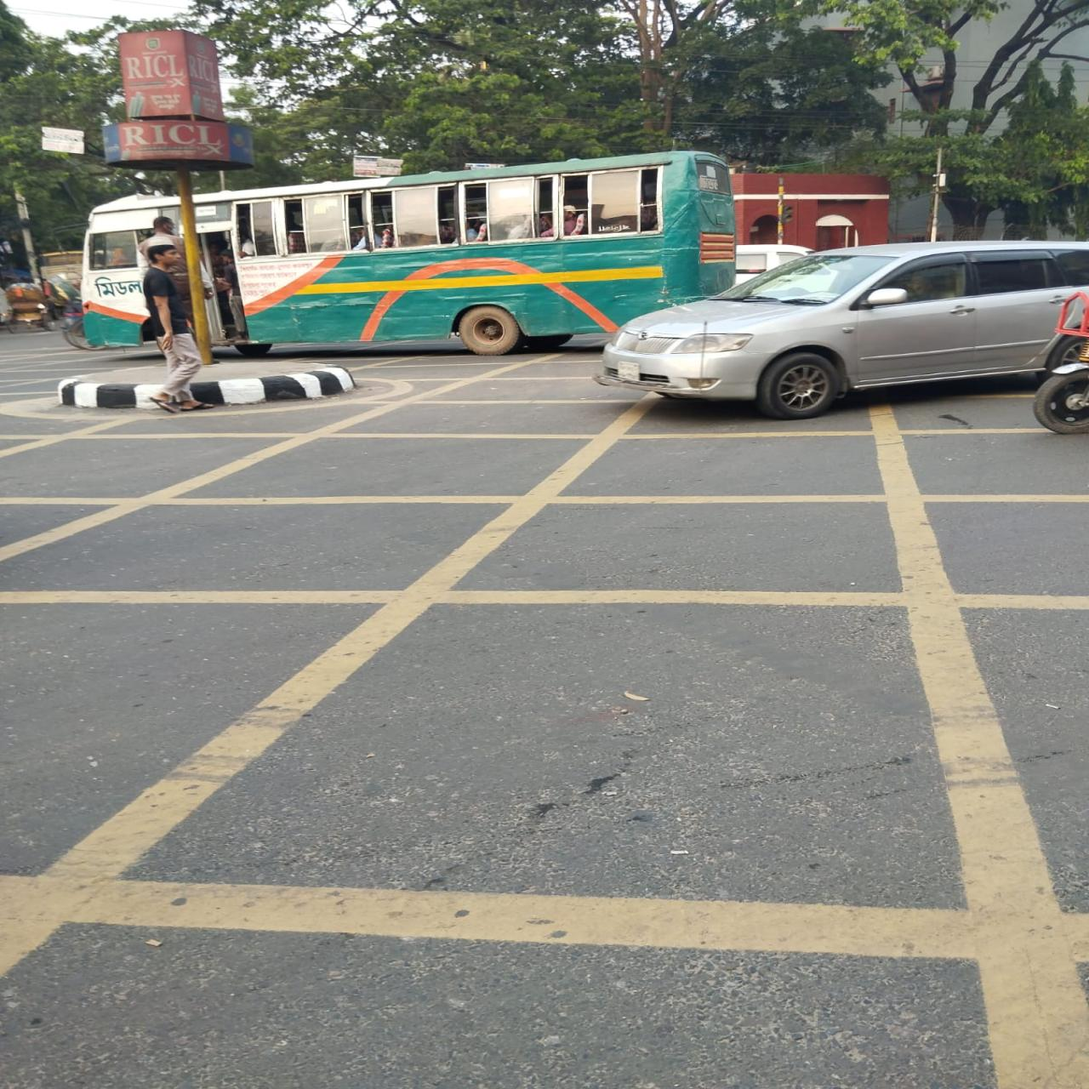person: (140, 236, 211, 416)
